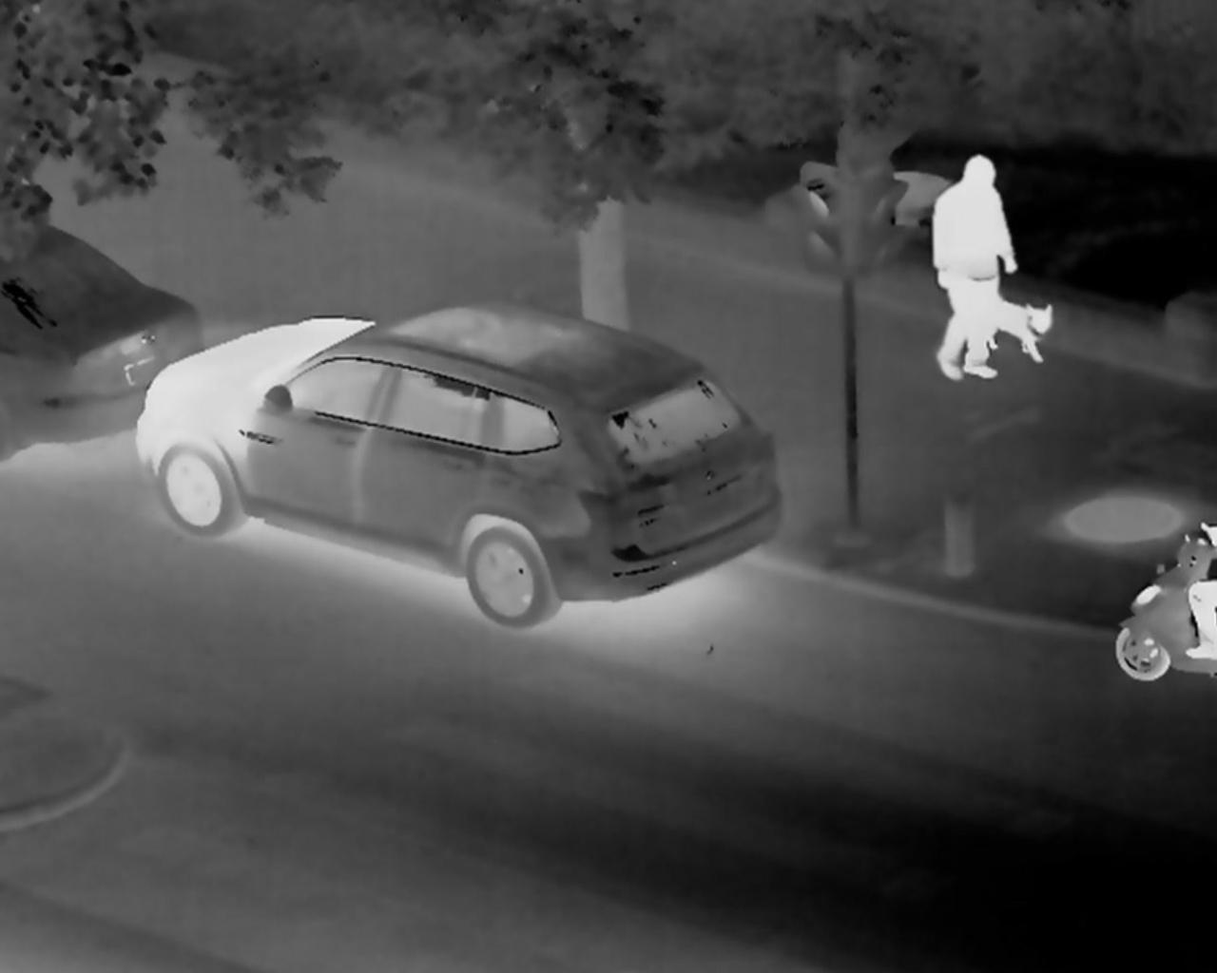person: (936, 143, 1033, 371)
